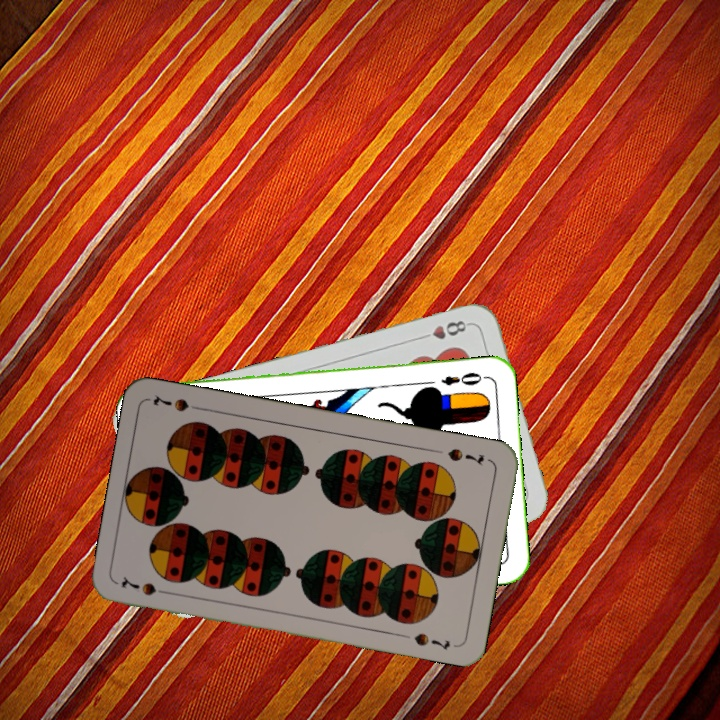EO: (437, 368, 489, 389)
H8: (415, 316, 473, 343)
S7: (117, 572, 174, 598), (443, 444, 487, 468)
